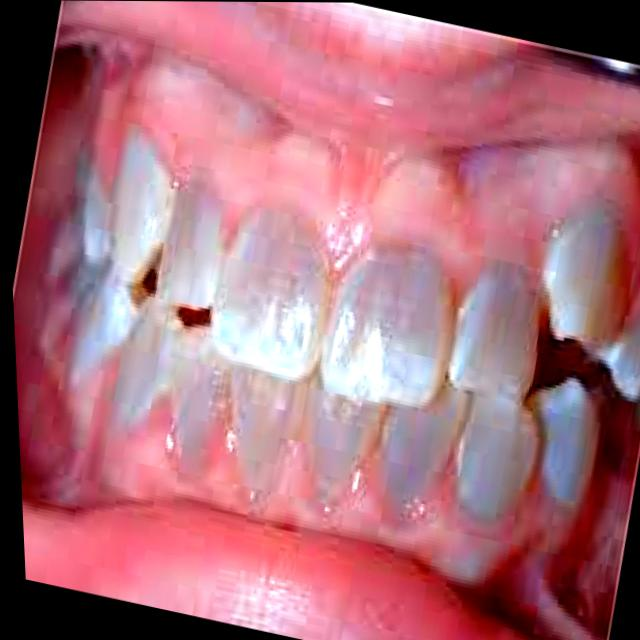tooth-discoloration: (322, 247, 454, 404), (214, 208, 328, 378), (450, 260, 540, 395), (382, 382, 467, 505), (458, 392, 538, 519), (537, 378, 600, 504), (158, 186, 224, 305)
